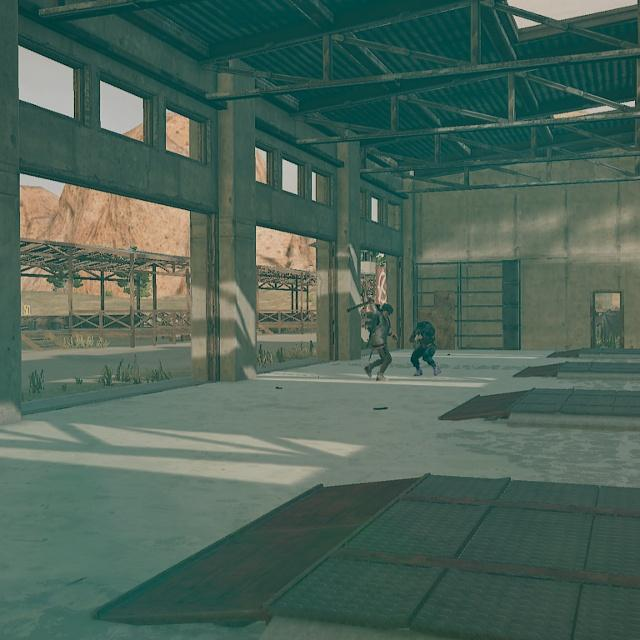head: (382, 298, 396, 319), (416, 318, 429, 332)
people: (364, 298, 399, 383), (411, 317, 445, 381)
